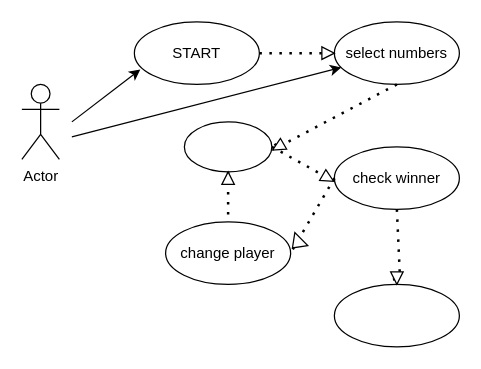
Some shapes in this 481 by 369 pixel diagram are drawn without their labels. Here are the shapes that lost their labels. From the top down, the centre of each, then its label:
At pixel 227 146: "take".
At pixel 396 315: "show winner".
